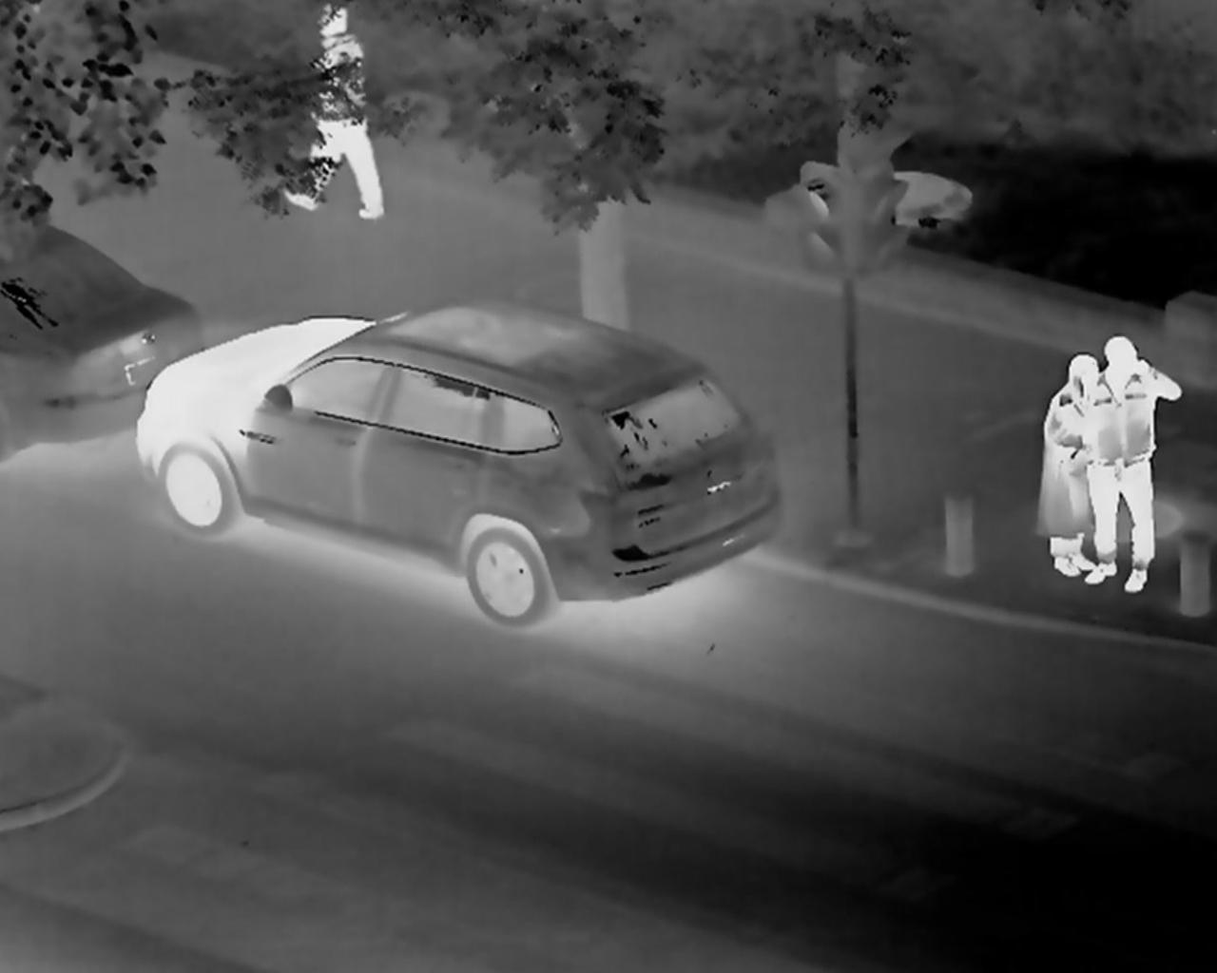person: (1094, 333, 1154, 650), (1048, 334, 1093, 595)
